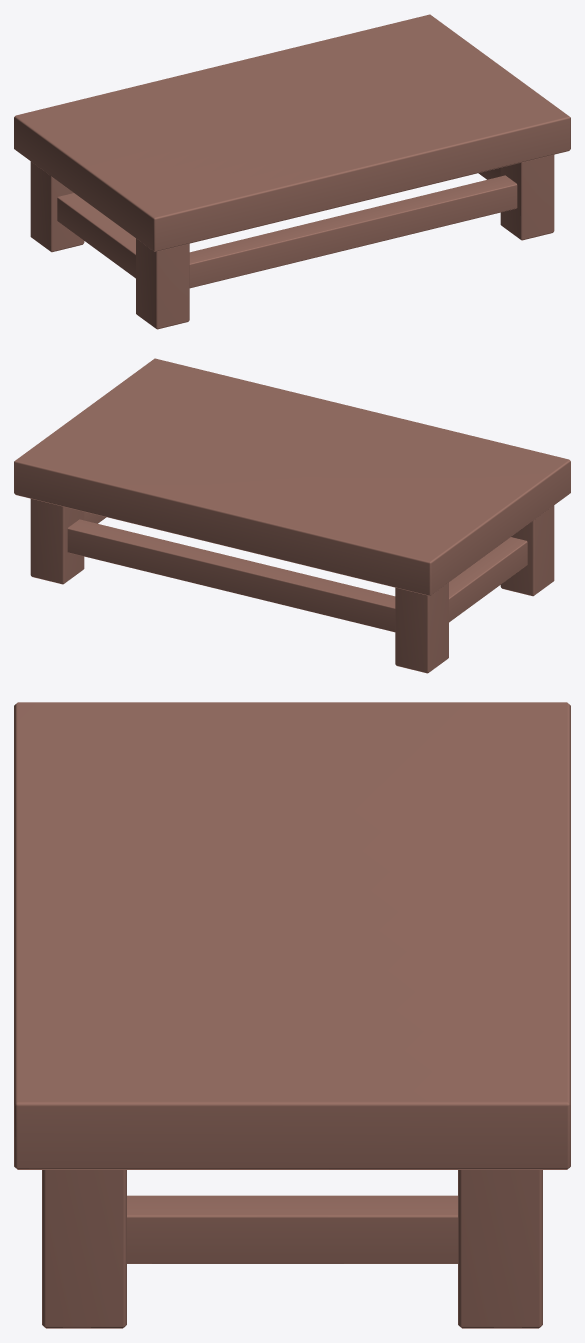
Rendered from Town_17_Table_1.glb.
3 renders of one model, top to bottom at view 1: azimuth 30°, elevation 25°; view 2: azimuth 150°, elevation 25°; view 3: azimuth 270°, elevation 25°, orthographic. The views are drawn at different scales.
Visible parts, largest first — view 1: Town_17_Table_1; view 2: Town_17_Table_1; view 3: Town_17_Table_1.
Part boxes in pixels (left/top/right/bottom): Town_17_Table_1: left=14, top=14, right=570, bottom=329; Town_17_Table_1: left=14, top=358, right=570, bottom=673; Town_17_Table_1: left=14, top=702, right=570, bottom=1328.
Bounding box in the file's own units: 1.41 × 0.3857 × 0.8244.
Materials: 1 (1 with a texture image).
